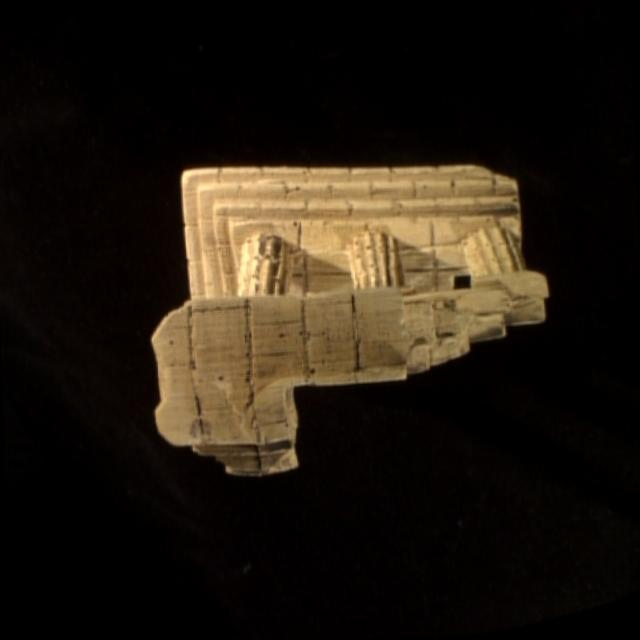Instance-Segmentation: (152, 164, 549, 473)
